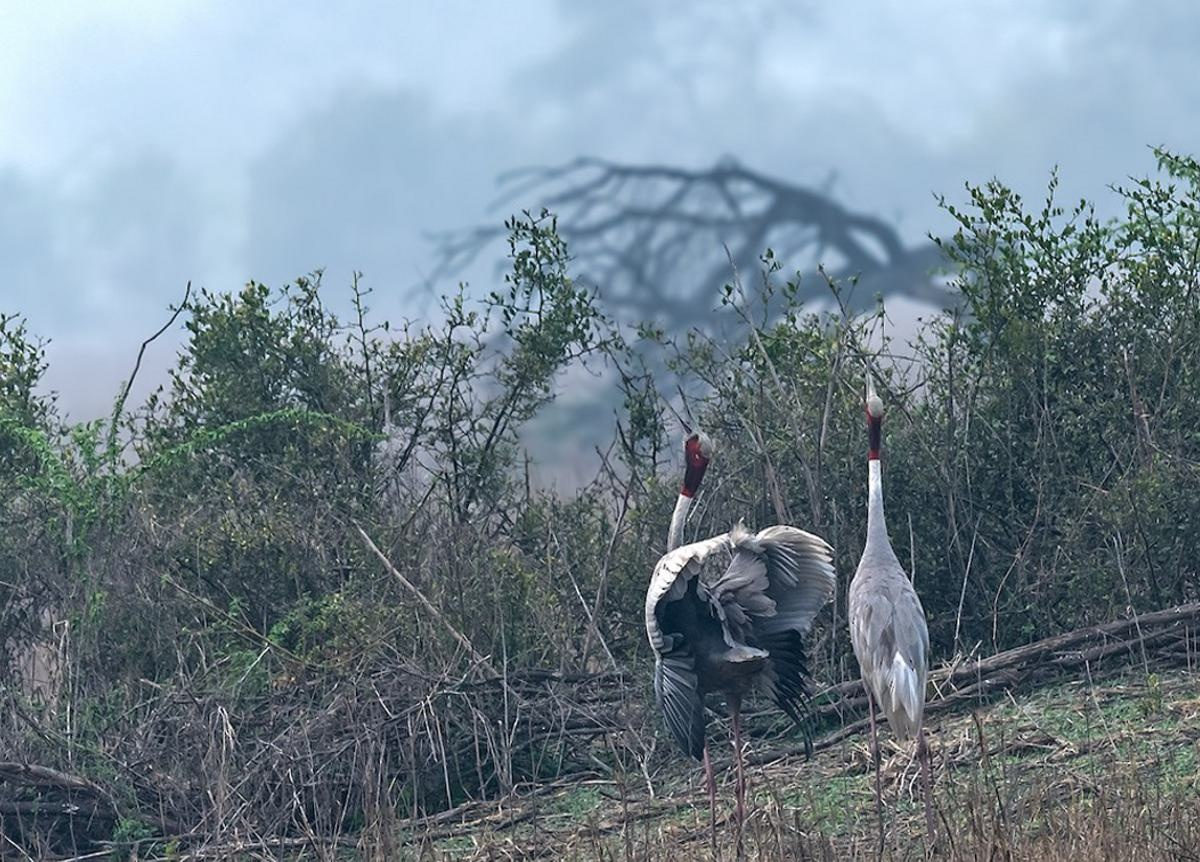crane: (634, 378, 824, 862), (843, 362, 950, 855)
